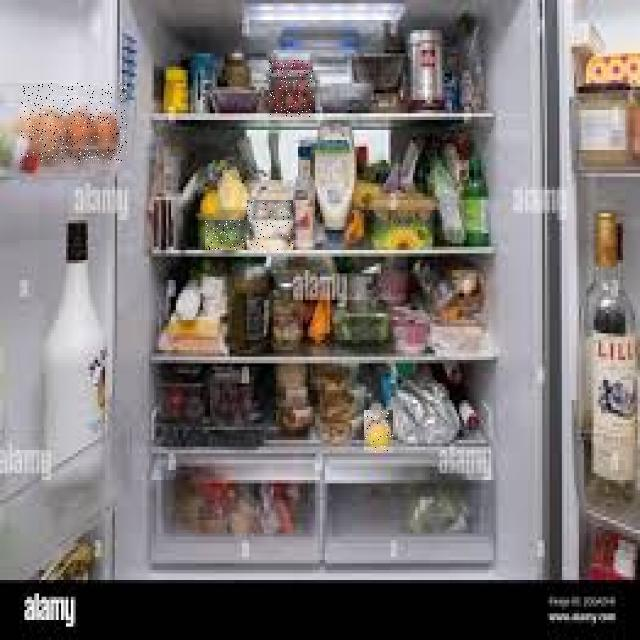egg: (100, 125, 394, 375), (0, 82, 84, 246)
tomato: (111, 58, 426, 175)
